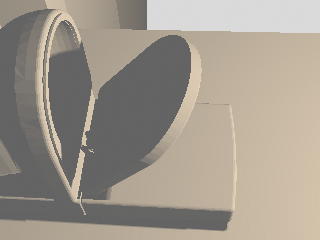lid_1: (80, 35, 200, 194)
